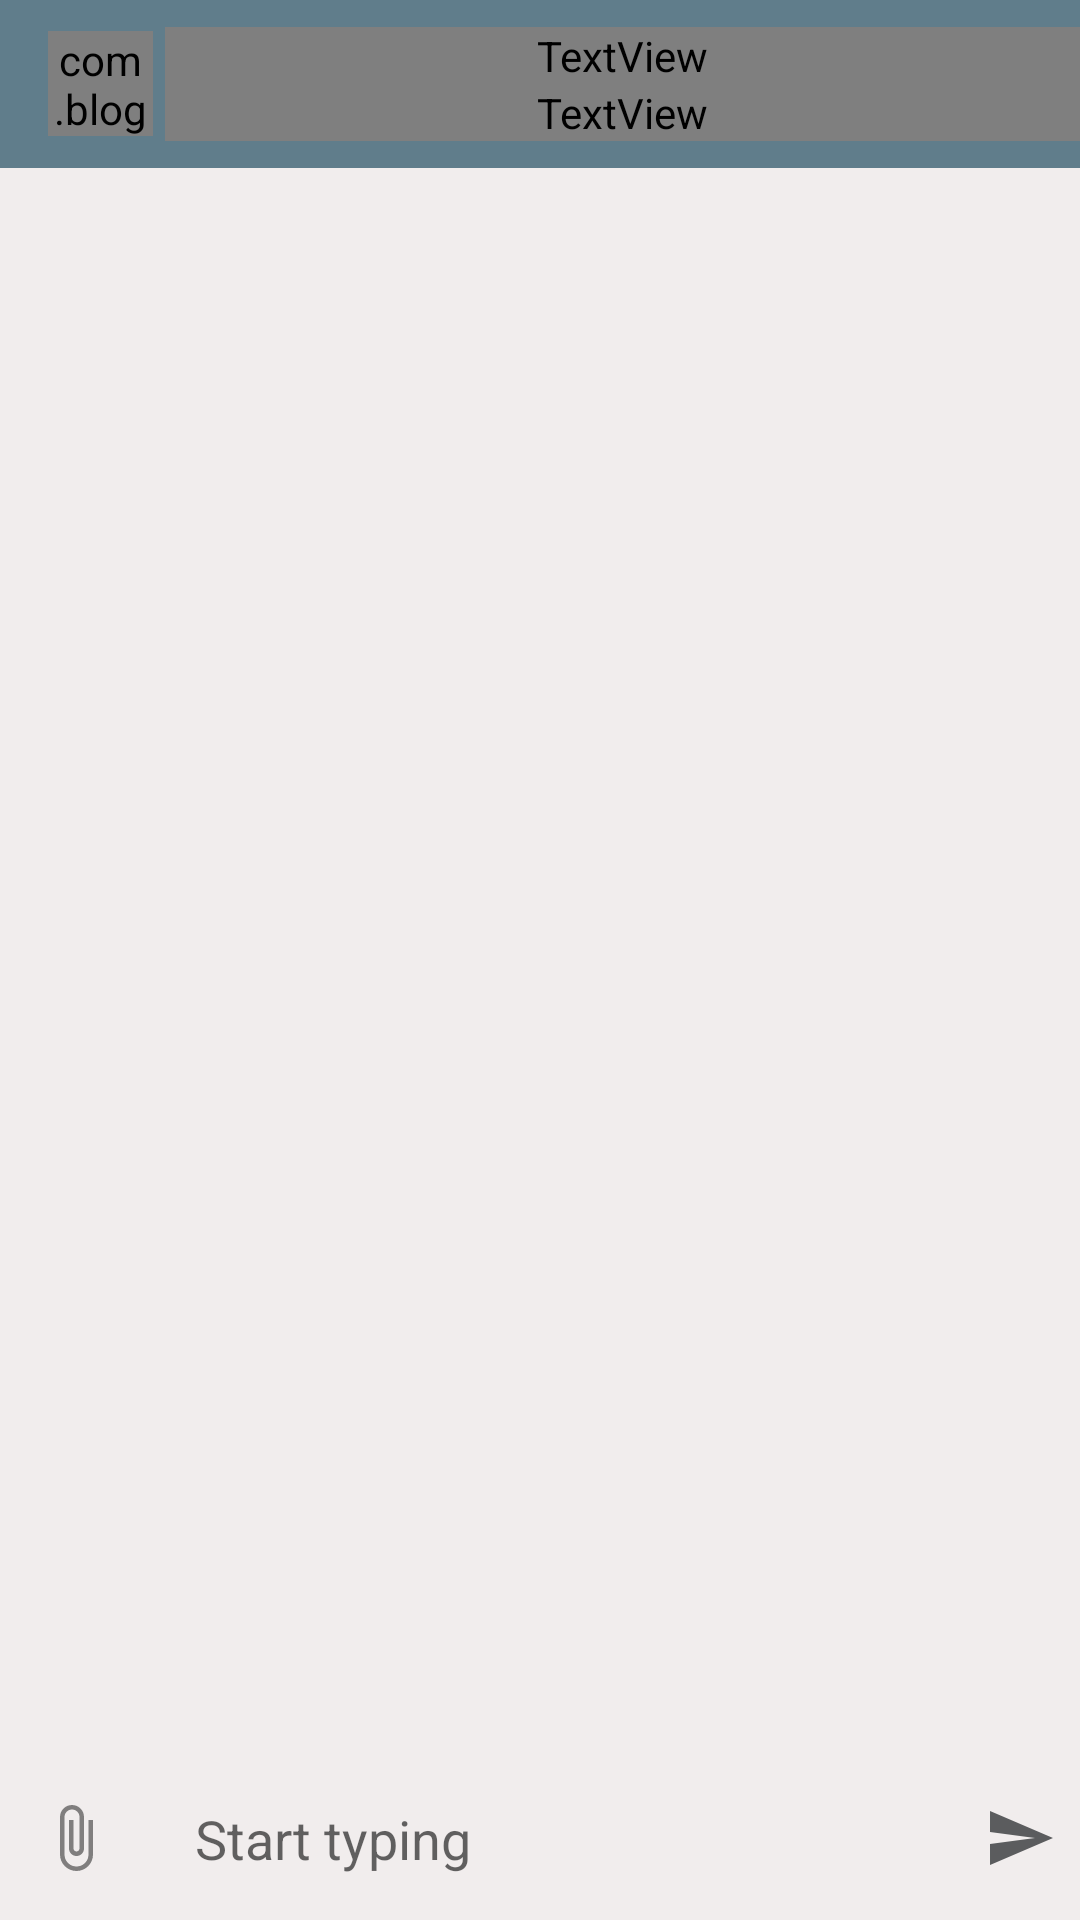

Screen size 1080x1920. Icon name, then its center in pixels as [x,y]:
attach: [76,1838]
send: [1021,1838]
